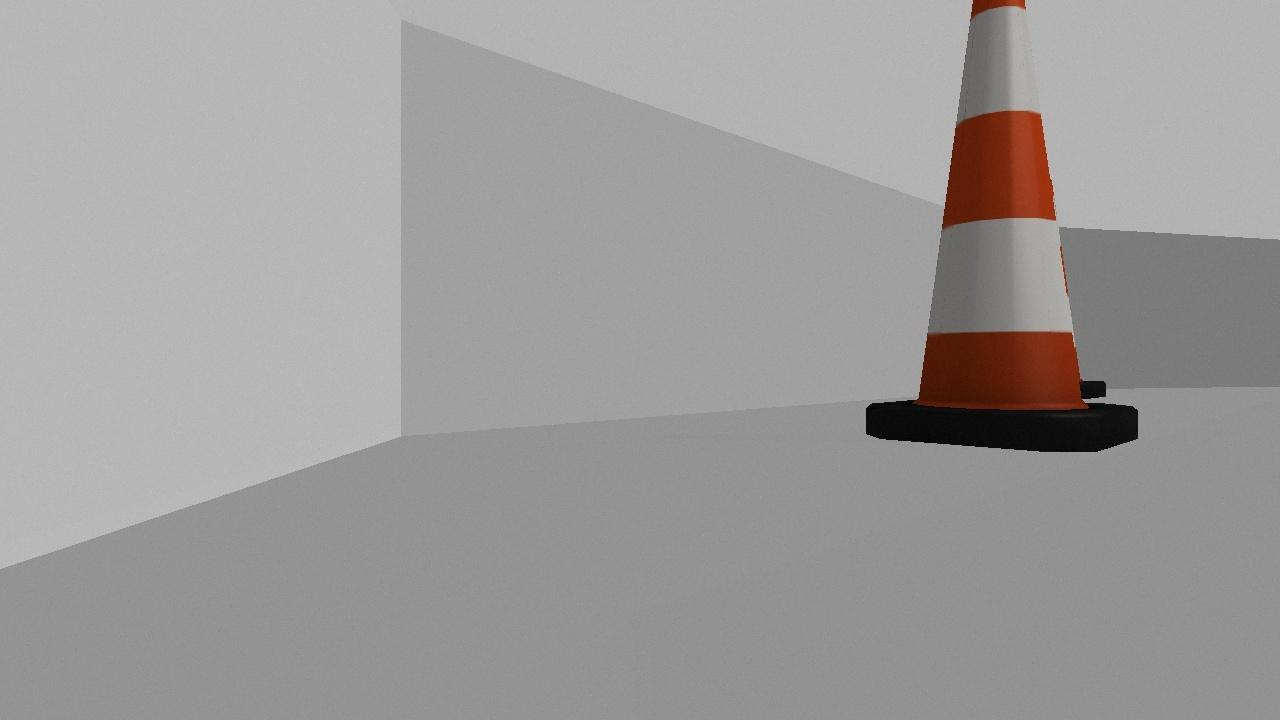cone_barrel: (867, 2, 1138, 449)
